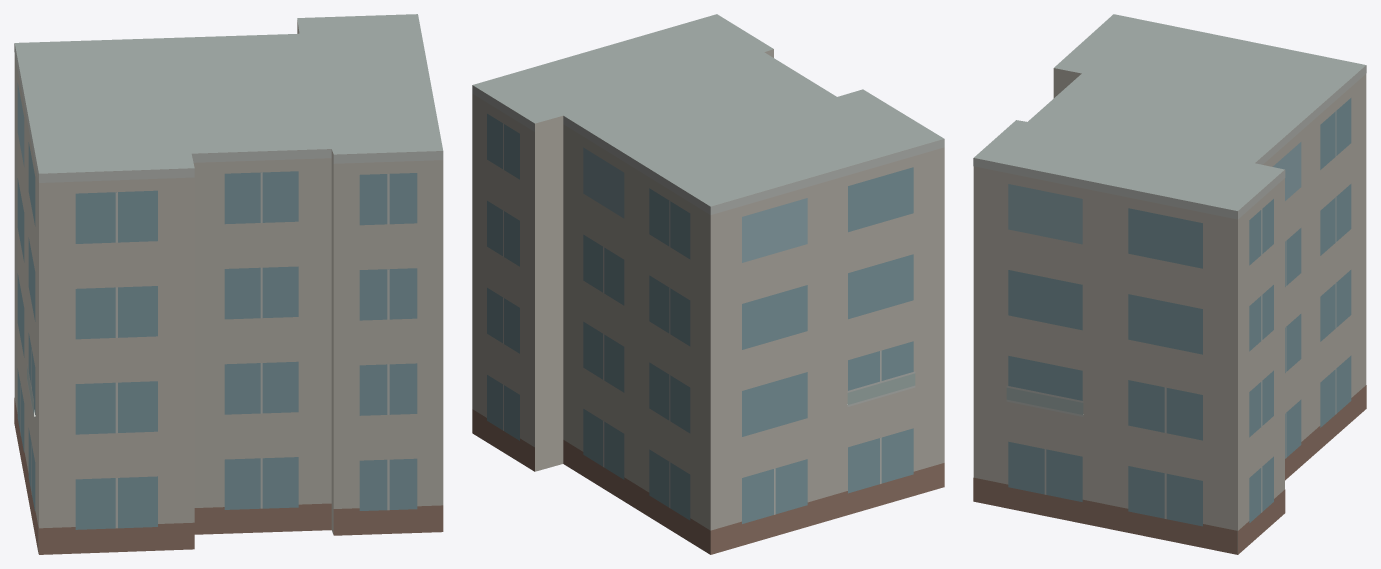
Rendered from survey-upis-32999272.glb.
The picture shows the model from 3 angles, left to right: view 1: azimuth 30°, elevation 25°; view 2: azimuth 150°, elevation 25°; view 3: azimuth 270°, elevation 25°; orthographic projection. The views are drawn at different scales.
Visible parts, largest first — view 1: survey-upis-32999272.tmp; view 2: survey-upis-32999272.tmp; view 3: survey-upis-32999272.tmp.
Part boxes in pixels (box(x1,y1,x2,y2)): survey-upis-32999272.tmp: box(14, 14, 443, 554); survey-upis-32999272.tmp: box(472, 14, 944, 554); survey-upis-32999272.tmp: box(973, 14, 1366, 554).
Size of the model in its own units: 12.31 by 10 by 10.37.
